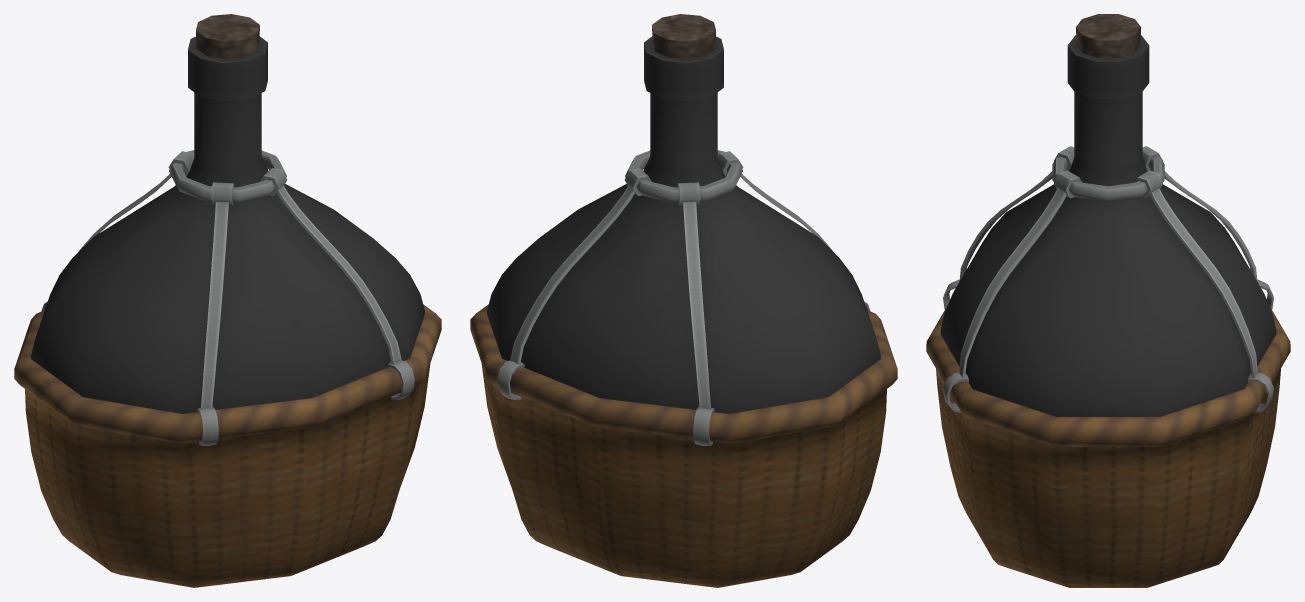
File: sb_obj_indoor020_Liquorbottle01.fbx
The picture shows the model from 3 angles, left to right: view 1: azimuth 30°, elevation 25°; view 2: azimuth 150°, elevation 25°; view 3: azimuth 270°, elevation 25°; orthographic projection.
Visible parts, largest first — view 1: sb_obj_indoor020_Liquorbottle01; view 2: sb_obj_indoor020_Liquorbottle01; view 3: sb_obj_indoor020_Liquorbottle01.
Part boxes in pixels (left/top/right/bottom): sb_obj_indoor020_Liquorbottle01: left=14, top=14, right=441, bottom=587; sb_obj_indoor020_Liquorbottle01: left=470, top=14, right=897, bottom=587; sb_obj_indoor020_Liquorbottle01: left=926, top=14, right=1290, bottom=587.
Bounding box in the file's own units: 0.3279 × 0.4243 × 0.2804.
